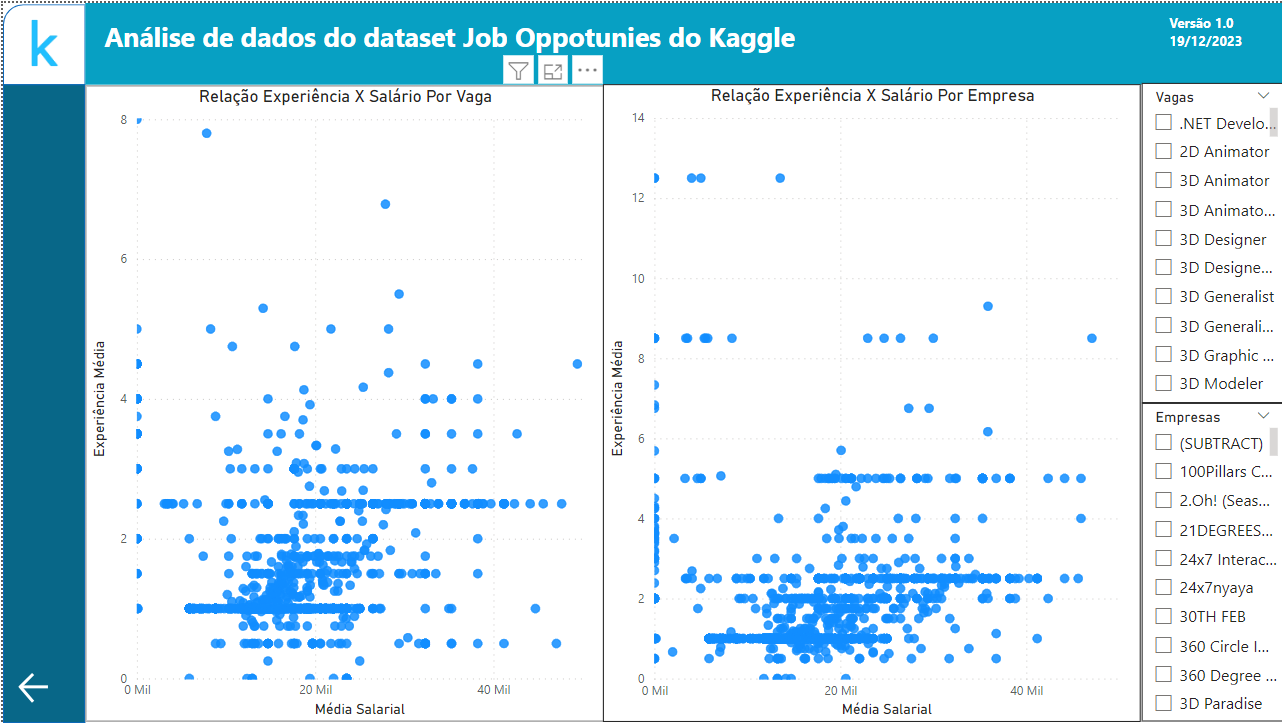

This screenshot's page, from the dashboard's own definition file:
{"tool":"powerbi","page":{"name":"Expectativa x Salário","canvas":[1280,720],"ordinal":2},"visuals":[{"type":"shape","box":[0,1.2,82.5,81.2],"z":0},{"type":"shape","box":[0,80.9,82.3,638.9],"z":1000},{"type":"shape","box":[82.9,0,1197.1,81.4],"z":2000},{"type":"textbox","box":[96.2,10,720,45],"z":3000},{"type":"textbox","box":[1161.4,5.7,108.6,48.6],"z":4000},{"type":"image","box":[11.2,0,61.2,80],"z":5000},{"type":"actionButton","box":[10.9,664.9,43.8,39.7],"z":6000},{"type":"slicer","fields":{"Values":["job_dataset.job_title"]},"box":[1138.6,80,141.4,320],"z":7000},{"type":"slicer","fields":{"Values":["job_dataset.company_name"]},"box":[1138.6,400,141.4,318.6],"z":8000},{"type":"scatterChart","title":"Relação Experiência X Salário Por Vaga","fields":{"Y":["Avg(job_dataset.expeience_mean(years))"],"X":["Avg(job_dataset.ctc_mean(R$)*)"],"Category":["job_dataset.job_title"]},"box":[82.1,82.1,518.5,636.2],"z":9000},{"type":"scatterChart","title":"Relação Experiência X Salário Por Empresa","fields":{"Y":["Avg(job_dataset.expeience_mean(years))"],"X":["Avg(job_dataset.ctc_mean(R$)*)"],"Category":["job_dataset.company_name"]},"box":[600.6,80.7,537.7,637.5],"z":10000}]}

Visuals, with their boxes on the page's 1280x720 design canvas (x1, y1, x2, y2). These are canvas units, not pixel positions in the 1282x723 screenshot, which may show the page scaled, cropped or inside an application window:
shape: x1=0, y1=1, x2=82, y2=82
shape: x1=0, y1=81, x2=82, y2=720
shape: x1=83, y1=0, x2=1280, y2=81
textbox: x1=96, y1=10, x2=816, y2=55
textbox: x1=1161, y1=6, x2=1270, y2=54
image: x1=11, y1=0, x2=72, y2=80
actionButton: x1=11, y1=665, x2=55, y2=705
slicer - job_dataset.job_title: x1=1139, y1=80, x2=1280, y2=400
slicer - job_dataset.company_name: x1=1139, y1=400, x2=1280, y2=719
"Relação Experiência X Salário Por Vaga" scatterChart: x1=82, y1=82, x2=601, y2=718
"Relação Experiência X Salário Por Empresa" scatterChart: x1=601, y1=81, x2=1138, y2=718
